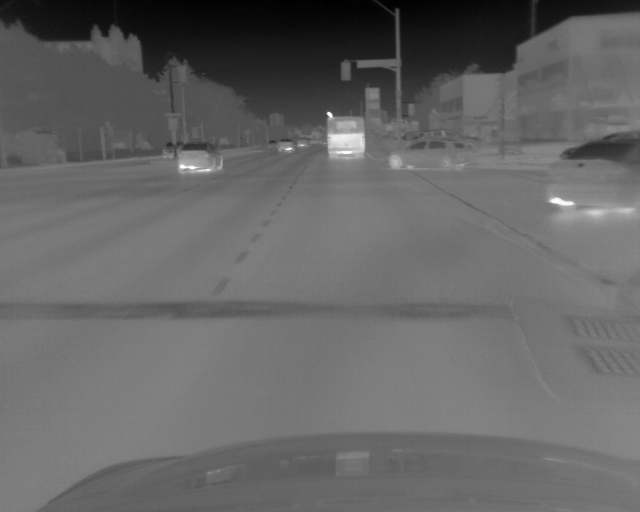car: (544, 138, 640, 216), (385, 138, 471, 170), (174, 141, 224, 175), (326, 117, 365, 159), (414, 129, 478, 152), (159, 142, 176, 159), (277, 139, 292, 154), (294, 137, 309, 149), (266, 138, 277, 149)
